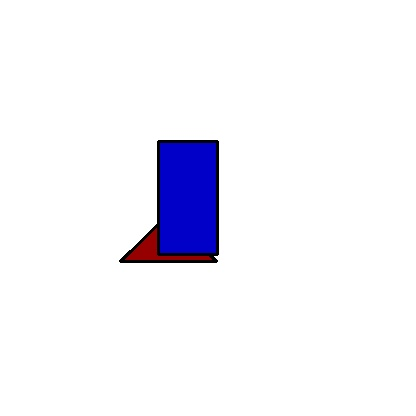rectangle: (158, 141, 217, 254)
triangle: (120, 214, 216, 261)
